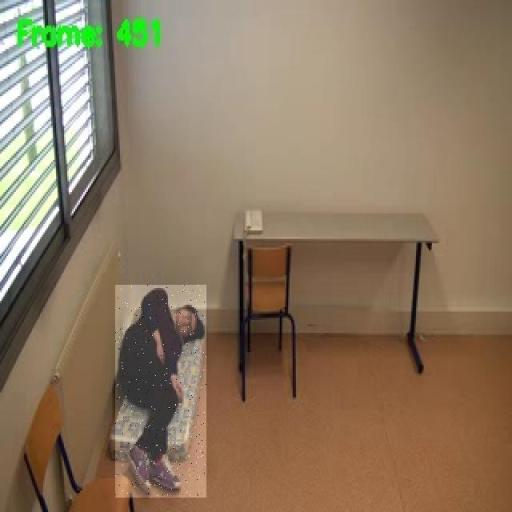Fall: (116, 285, 207, 498)
